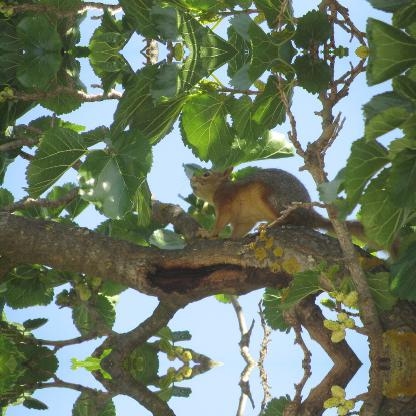Squirrel: (184, 160, 402, 262)
